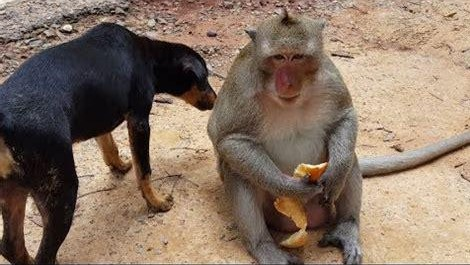dog: (1, 23, 215, 265)
monkey: (207, 11, 470, 264)
